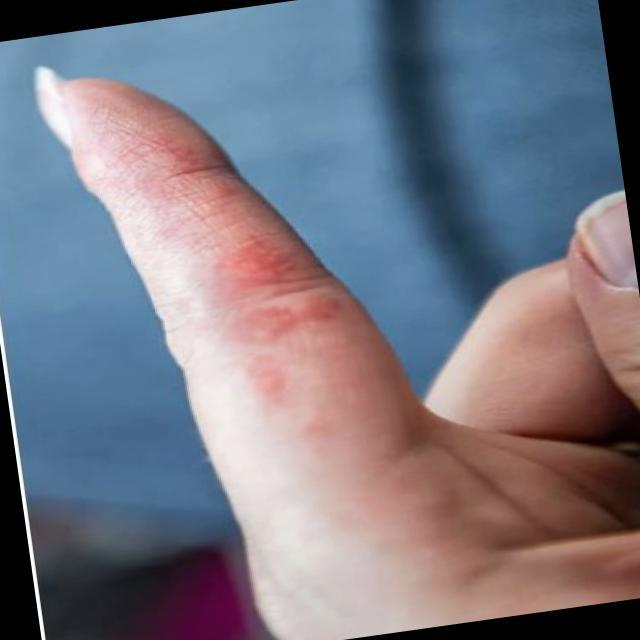Eczema: (90, 110, 345, 450)
